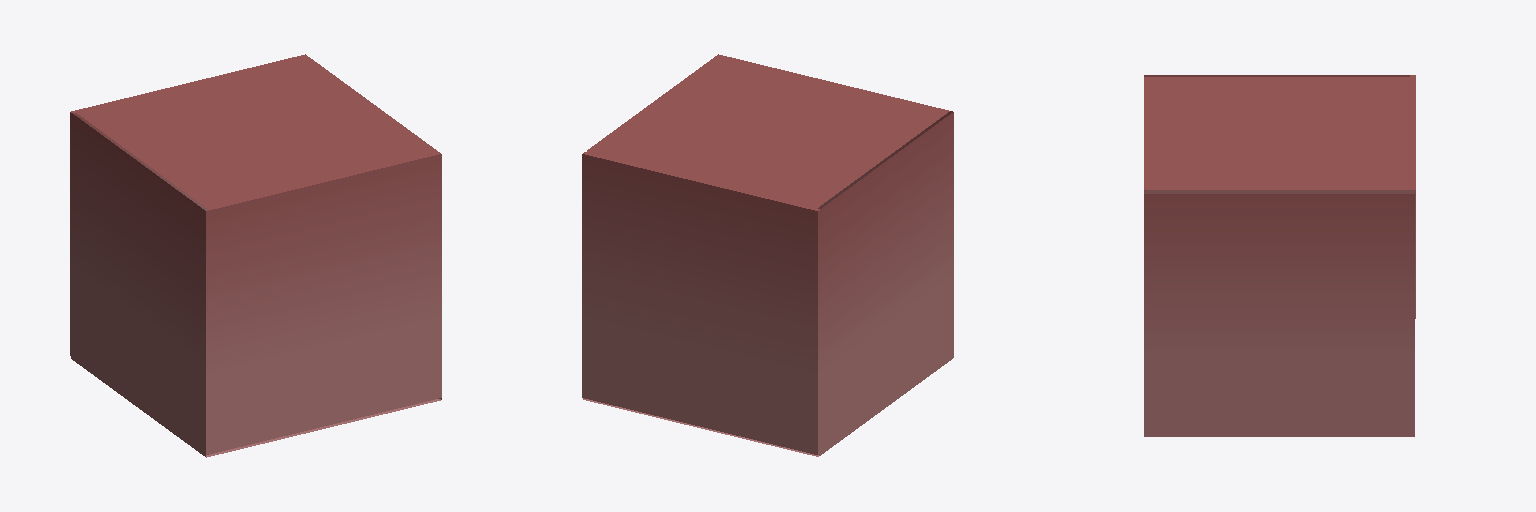
3 renders of one model, left to right at view 1: azimuth 30°, elevation 25°; view 2: azimuth 150°, elevation 25°; view 3: azimuth 270°, elevation 25°, orthographic.
Parts seen in each view (by area): view 1: Cube_Cube.001; view 2: Cube_Cube.001; view 3: Cube_Cube.001.
Part boxes in pixels (x1,y1,x2,y2): Cube_Cube.001: (70,54,441,457); Cube_Cube.001: (582,54,953,456); Cube_Cube.001: (1144,75,1415,436).
Size of the model in its own units: 2 by 2 by 2.
Materials: 1 (1 with a texture image).